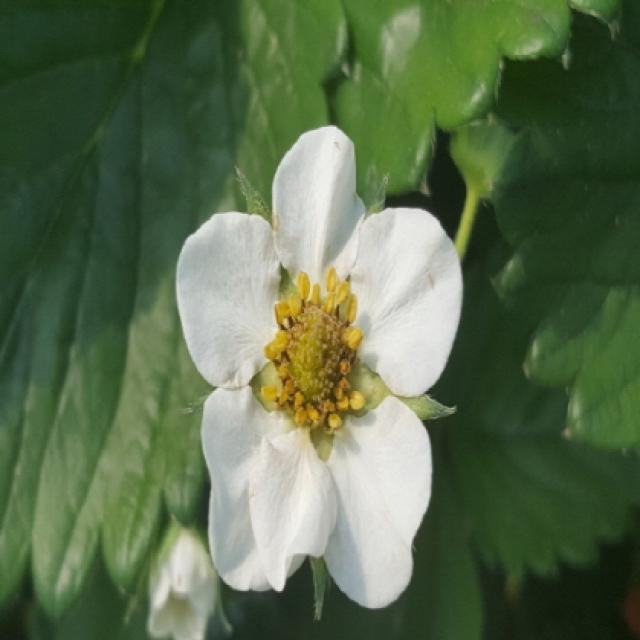Blossom Blight: (256, 263, 369, 437)
